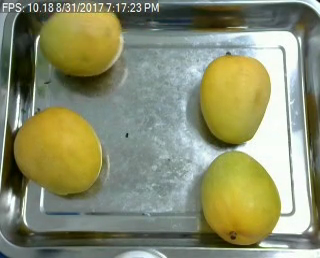Mango: (14, 107, 101, 193), (201, 153, 281, 246), (198, 55, 271, 142), (37, 4, 123, 76)
